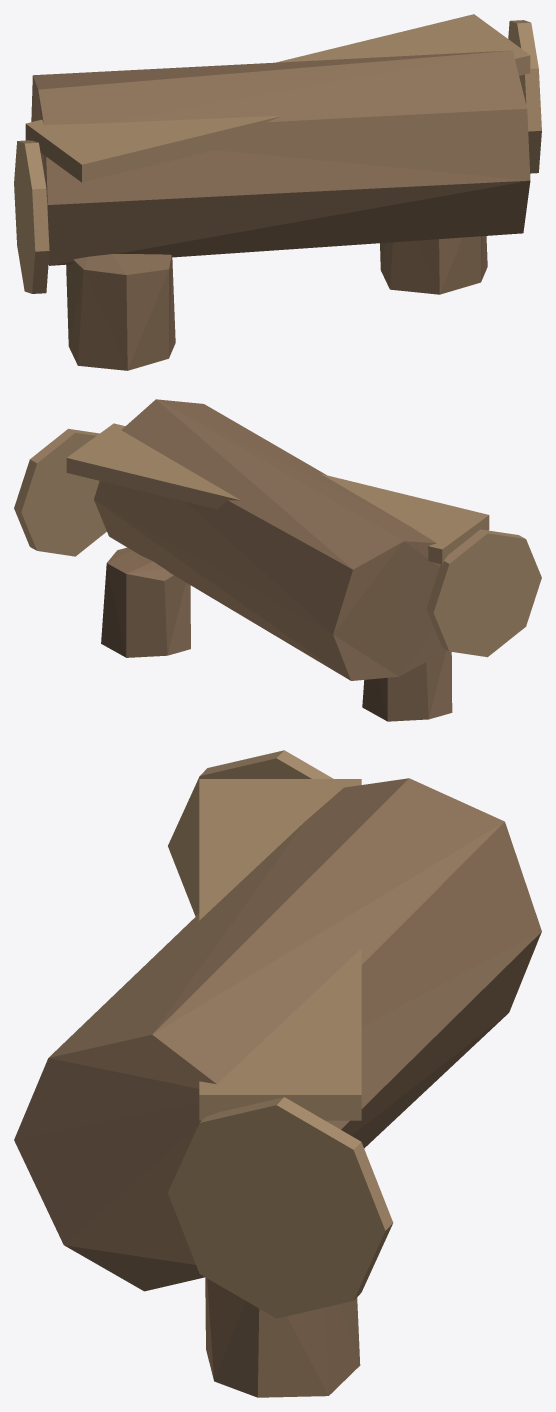
The model's file is LogBench.fbx.
The picture shows the model from 3 angles, top to bottom: view 1: azimuth 30°, elevation 25°; view 2: azimuth 150°, elevation 25°; view 3: azimuth 270°, elevation 25°; orthographic projection. The views are drawn at different scales.
Parts seen in each view (by area): view 1: LogBench_fbx; view 2: LogBench_fbx; view 3: LogBench_fbx.
Part boxes in pixels (box(x1,y1,x2,y2)): LogBench_fbx: box(14, 14, 541, 370); LogBench_fbx: box(14, 399, 541, 721); LogBench_fbx: box(14, 750, 541, 1397).
Bounding box in the file's own units: 1.14 × 0.4874 × 0.6498.
